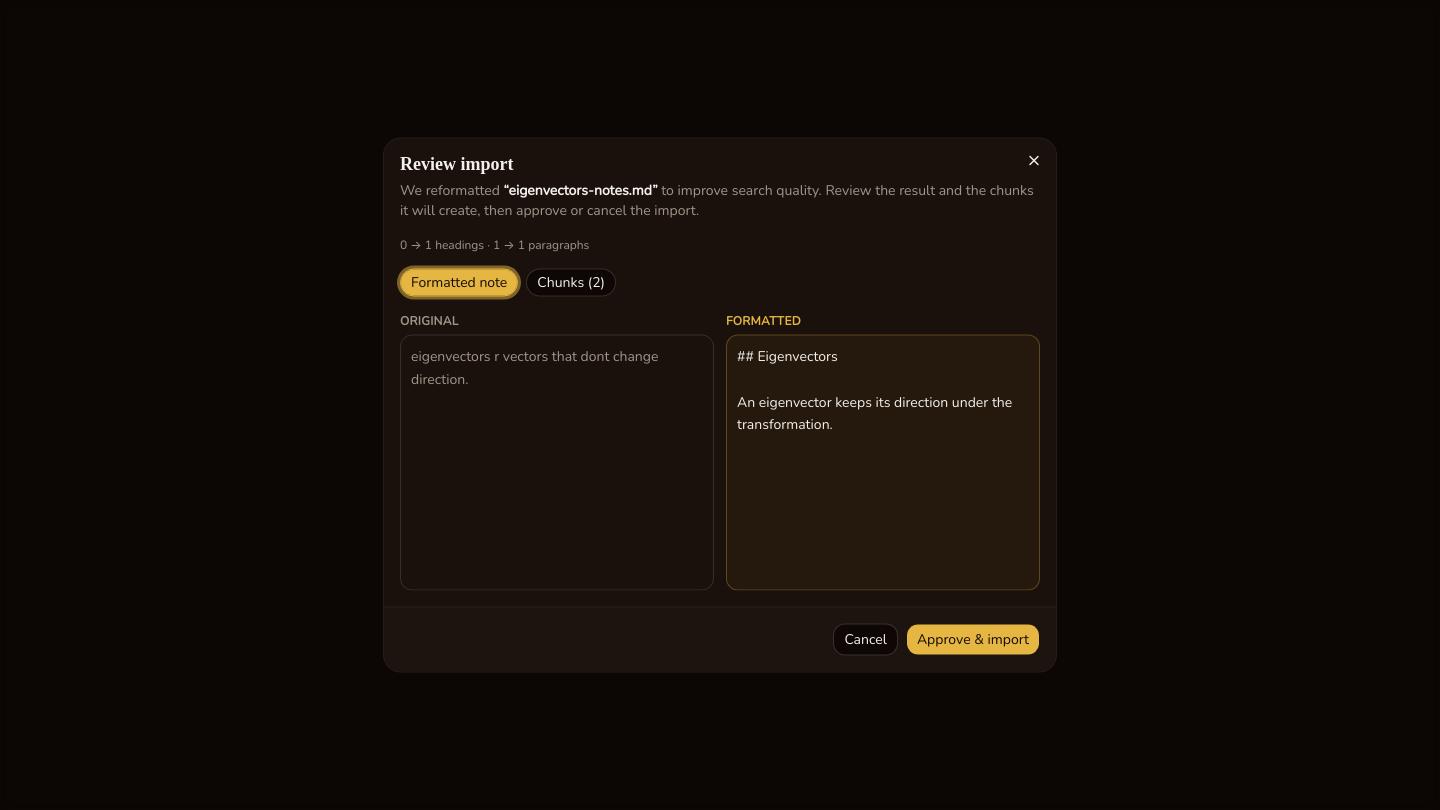
Scenario: ImportReviewDialog › switches to the Chunks tab and lists every chunk heading
When switching to the Chunks tab
Click the button "Chunks (2)": (571, 282) [526,268,616,296]
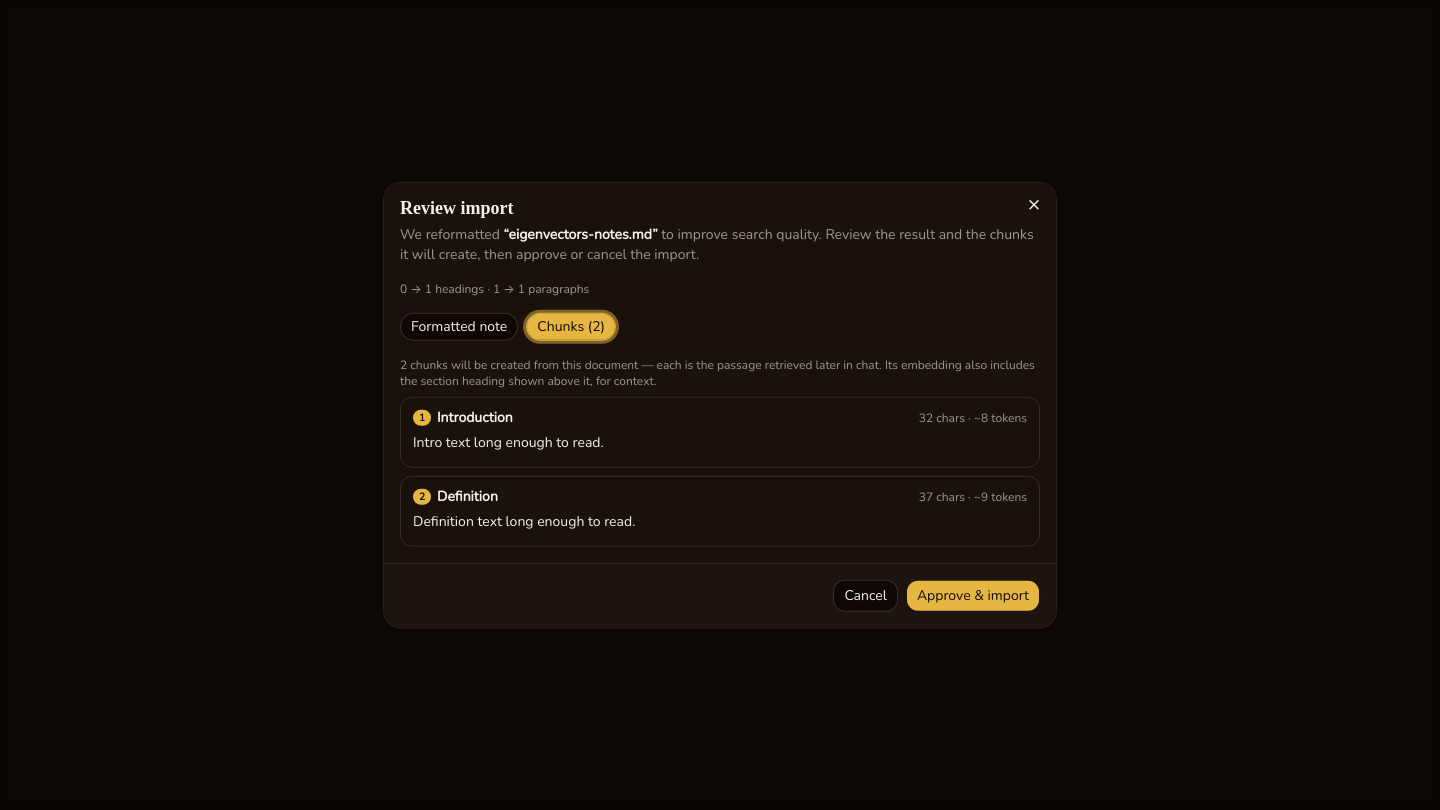
Expected: the text "Introduction" is shown, [437,410,513,426]
Expected: the text "Definition" is shown, [437,488,498,504]
